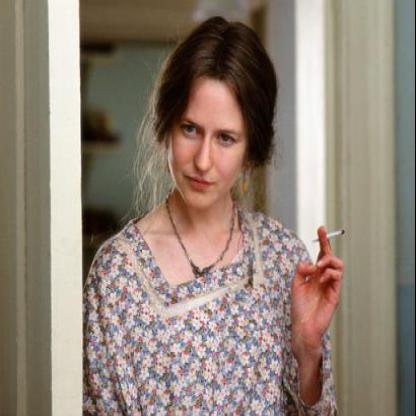face: (170, 44, 255, 214)
